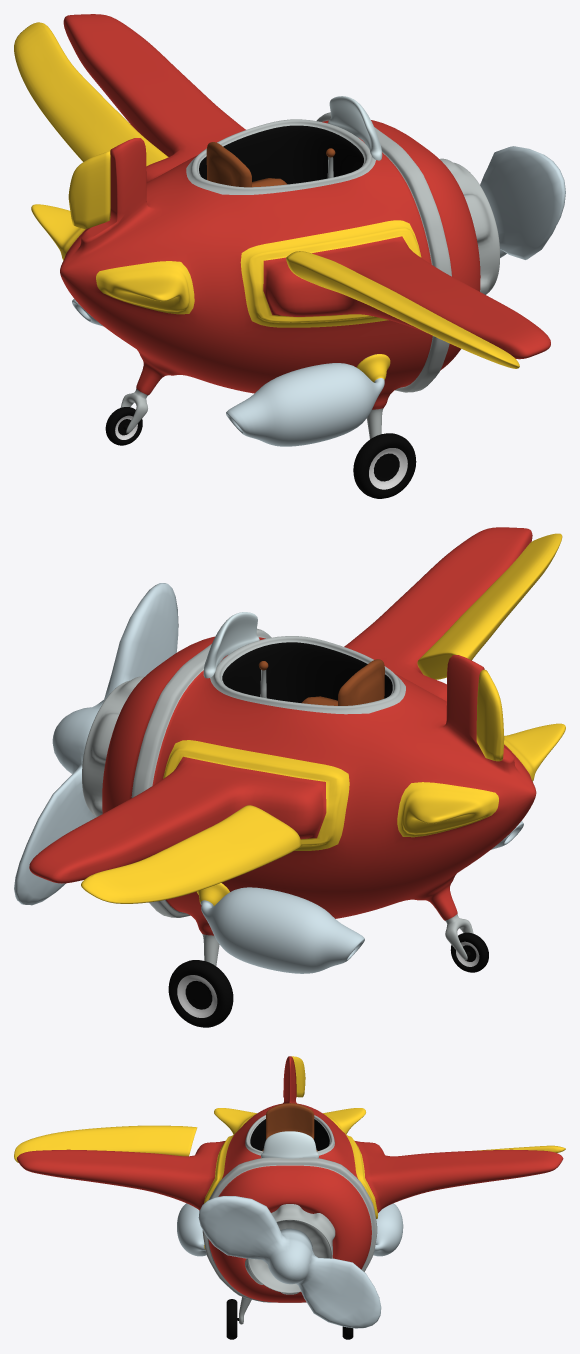
3 renders of one model, top to bottom at view 1: azimuth 30°, elevation 25°; view 2: azimuth 150°, elevation 25°; view 3: azimuth 270°, elevation 25°, orthographic. The views are drawn at different scales.
Parts seen in each view (by area): view 1: Cylinder.010, Cylinder.012, Cylinder.007, Cylinder.008, Cylinder.005; view 2: Cylinder.010, Cylinder.007, Cylinder.012, Cylinder.008, Cylinder.005; view 3: Cylinder.010, Cylinder.007, Cylinder.008, Cylinder.005.
Boxes of the visible parts, x1,y1,x2,y2 form: Cylinder.010: [31, 14, 550, 498]; Cylinder.012: [14, 22, 168, 166]; Cylinder.007: [480, 146, 565, 259]; Cylinder.008: [286, 251, 519, 368]; Cylinder.005: [68, 151, 110, 229]; Cylinder.010: [29, 527, 565, 1027]; Cylinder.007: [14, 583, 178, 905]; Cylinder.012: [81, 805, 301, 903]; Cylinder.008: [417, 533, 562, 679]; Cylinder.005: [476, 669, 504, 761]; Cylinder.010: [17, 1056, 563, 1339]; Cylinder.007: [198, 1196, 381, 1328]; Cylinder.008: [14, 1125, 197, 1162]; Cylinder.005: [291, 1056, 305, 1097].
Bounding box in the file's own units: 8.59 × 6.55 × 14.84.
